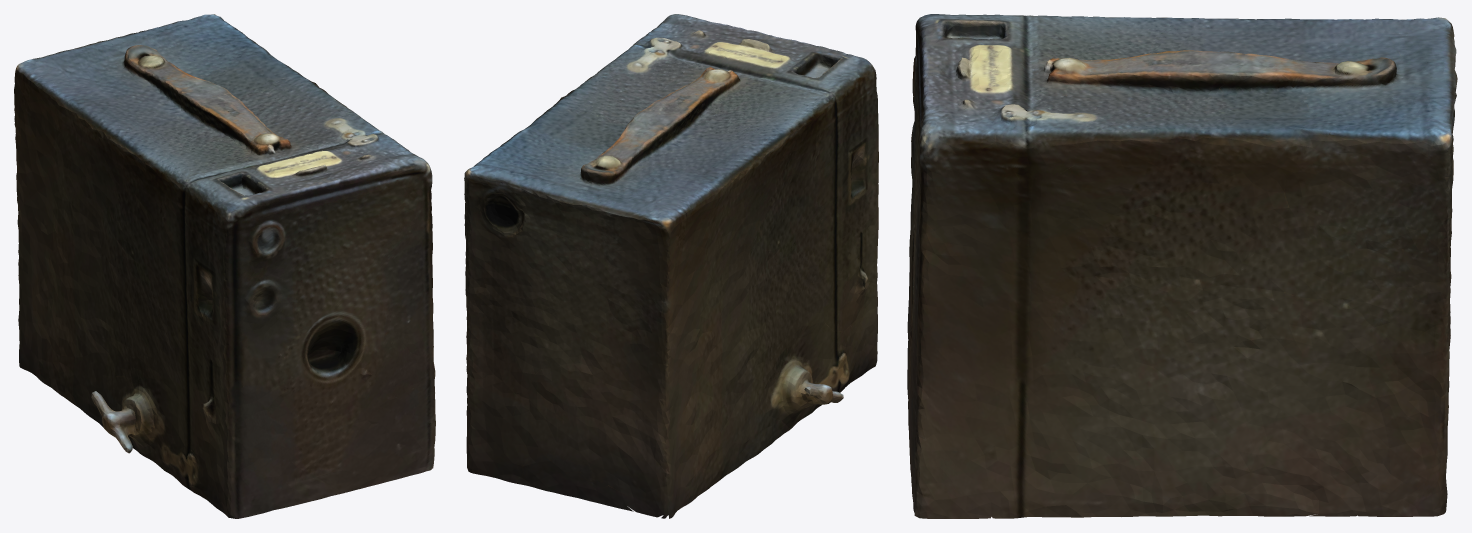
The model's file is brownie1A.glb.
3 renders of one model, left to right at view 1: azimuth 30°, elevation 25°; view 2: azimuth 150°, elevation 25°; view 3: azimuth 270°, elevation 25°, orthographic. The views are drawn at different scales.
Bounding box in the file's own units: 0.1054 × 0.128 × 0.1622.
1 material, 1 textured.
